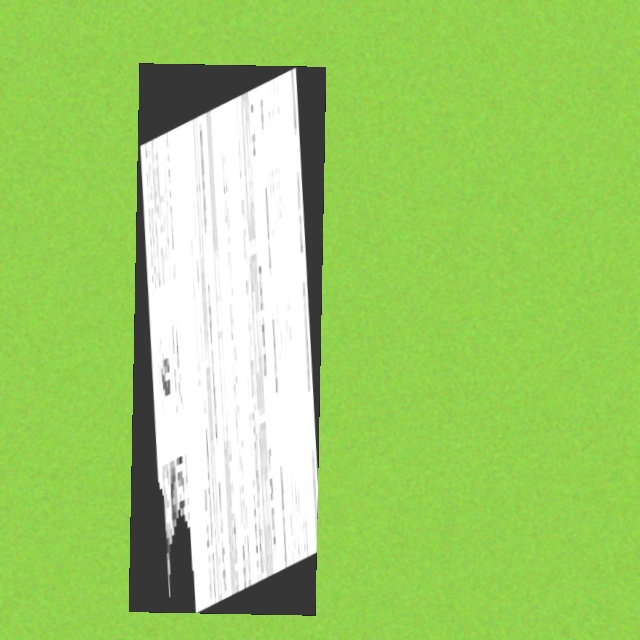electricity-bill: (128, 62, 325, 615)
